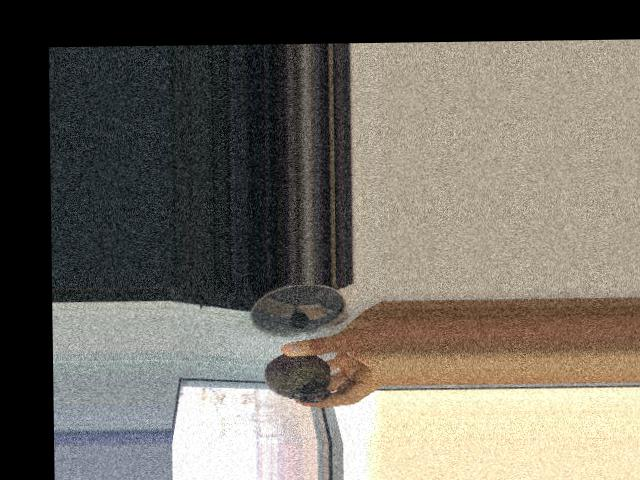beet: (263, 352, 349, 403)
